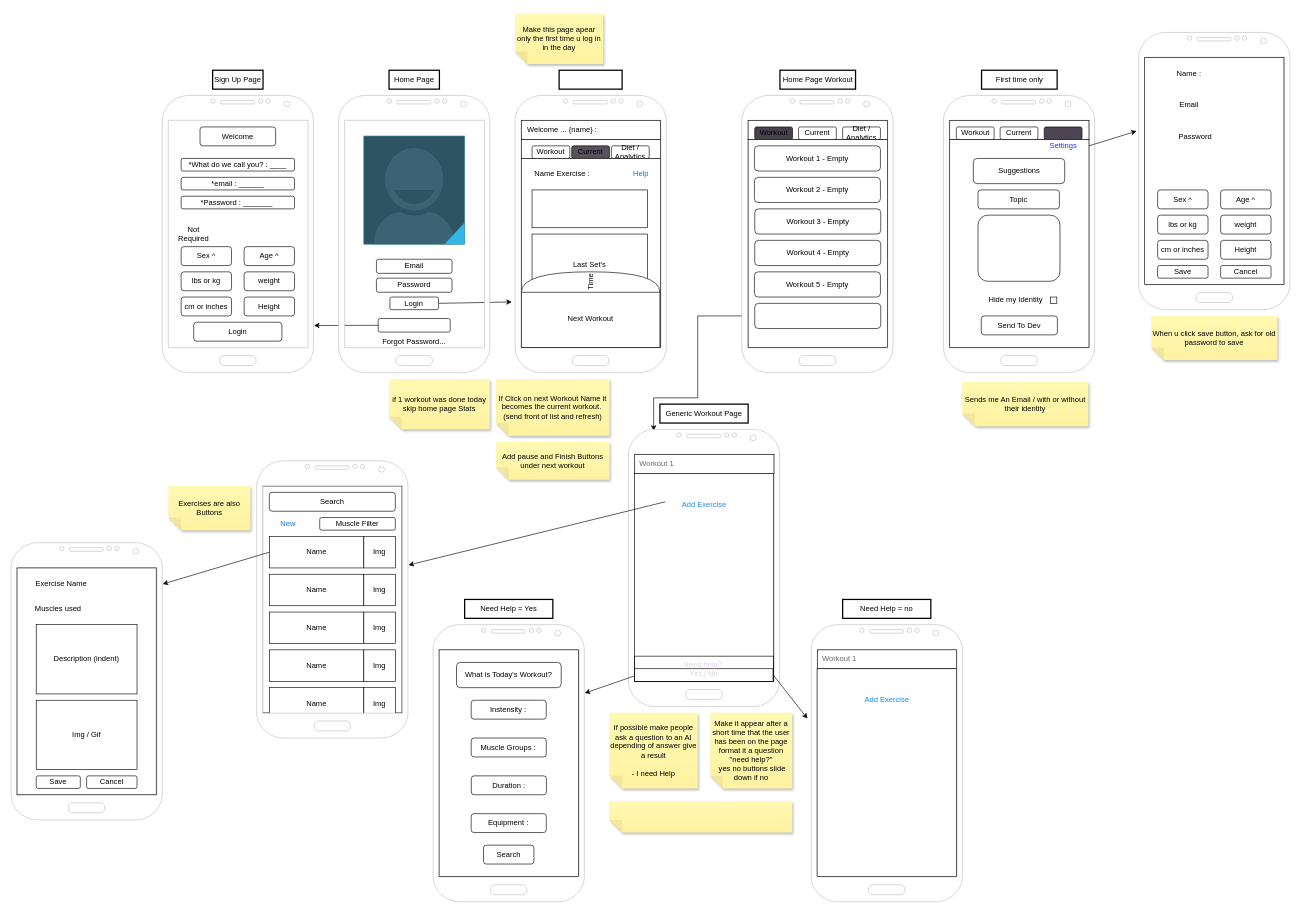
Some shapes in this 1301 by 913 pixel diagram are drawn without their labels. Each missing label, with the centre of its shape:
Home Page Stats: the point at 590,79
https://www.youtube.com/watch?app=desktop&v=o6K_b3pRLfc: the point at 701,817
Info to log per exercise (weight,reps,time,distance,...): the point at 589,208
Message: the point at 1018,248
Sign Up: the point at 414,325
Workout 6 - Empty: the point at 817,316
